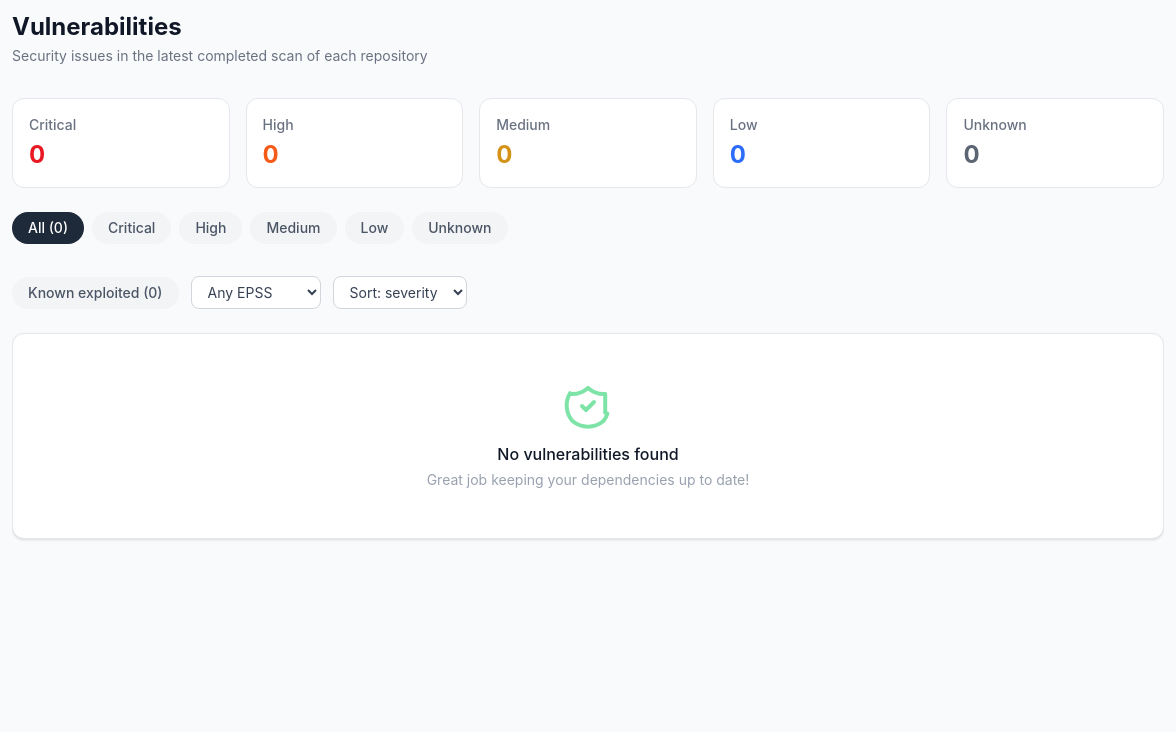
Test case: Vulnerabilities › filters by severity on the server
Step 1. Click the button "Critical" → (132, 228), box [92,212,171,244]
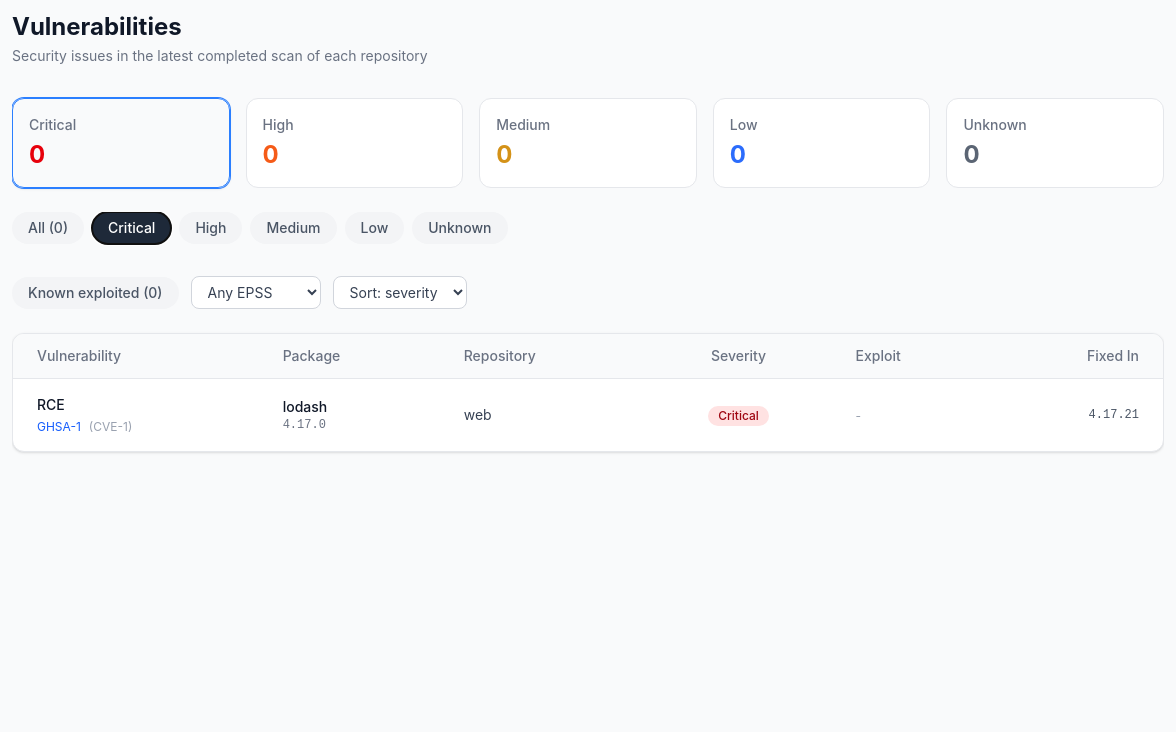
Check: the text "RCE" is shown, box [37,396,65,413]
